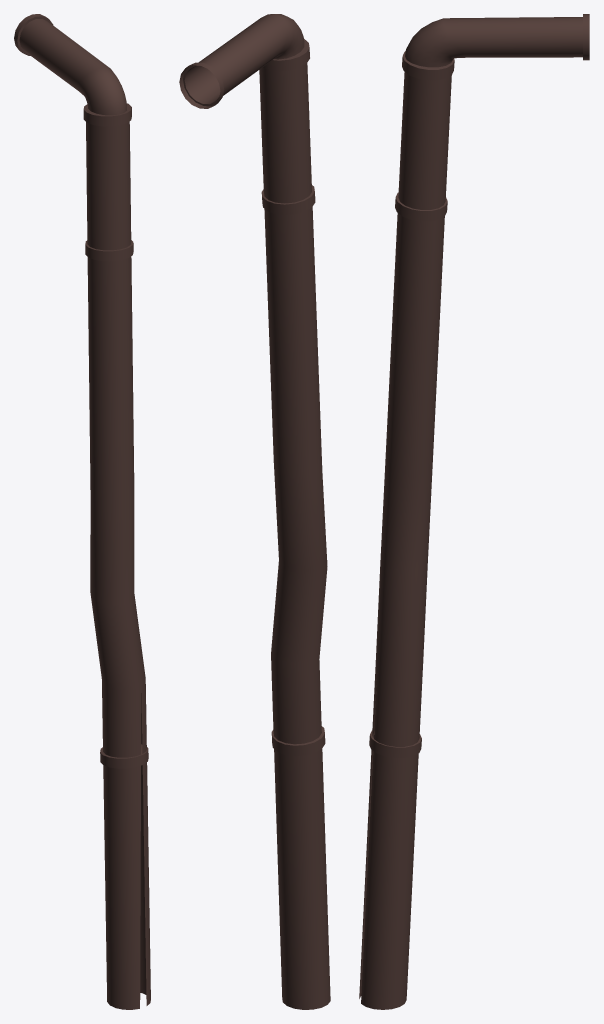
The model's file is big_pipe.glb.
3 views of the same model, side by side, from view 1: azimuth 30°, elevation 25°; view 2: azimuth 150°, elevation 25°; view 3: azimuth 270°, elevation 25° (orthographic). The views are drawn at different scales.
Visible parts, largest first — view 1: pCylinder53_rust_metal_0.005, pCylinder53_rust_metal_0.004, pCylinder57_rust_metal_0.003, pCylinder55_rust_metal_0.002, pCylinder57_rust_metal_0.002; view 2: pCylinder53_rust_metal_0.005, pCylinder53_rust_metal_0.004, pCylinder55_rust_metal_0.002, pCylinder57_rust_metal_0.002, pCylinder57_rust_metal_0.003, pCylinder53_rust_metal_0.011; view 3: pCylinder53_rust_metal_0.005, pCylinder53_rust_metal_0.004, pCylinder57_rust_metal_0.003, pCylinder57_rust_metal_0.002, pCylinder55_rust_metal_0.002.
Part boxes in pixels (bbox=[...]): pCylinder53_rust_metal_0.005: bbox=[86, 121, 150, 1009]; pCylinder53_rust_metal_0.004: bbox=[19, 19, 126, 115]; pCylinder57_rust_metal_0.003: bbox=[83, 103, 131, 126]; pCylinder55_rust_metal_0.002: bbox=[100, 744, 148, 768]; pCylinder57_rust_metal_0.002: bbox=[85, 240, 133, 261]; pCylinder53_rust_metal_0.005: bbox=[259, 63, 330, 1009]; pCylinder53_rust_metal_0.004: bbox=[184, 14, 304, 104]; pCylinder55_rust_metal_0.002: bbox=[271, 726, 325, 756]; pCylinder57_rust_metal_0.002: bbox=[261, 185, 315, 215]; pCylinder57_rust_metal_0.003: bbox=[262, 39, 309, 71]; pCylinder53_rust_metal_0.011: bbox=[179, 62, 224, 108]; pCylinder53_rust_metal_0.005: bbox=[359, 72, 451, 1009]; pCylinder53_rust_metal_0.004: bbox=[405, 17, 582, 67]; pCylinder57_rust_metal_0.003: bbox=[402, 51, 454, 80]; pCylinder57_rust_metal_0.002: bbox=[395, 192, 447, 221]; pCylinder55_rust_metal_0.002: bbox=[369, 730, 421, 757].
Bounding box in the file's own units: 7.69 × 139 × 29.52.
